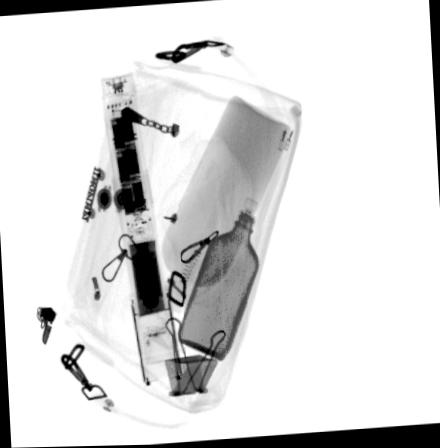Baton: (100, 71, 183, 387)
